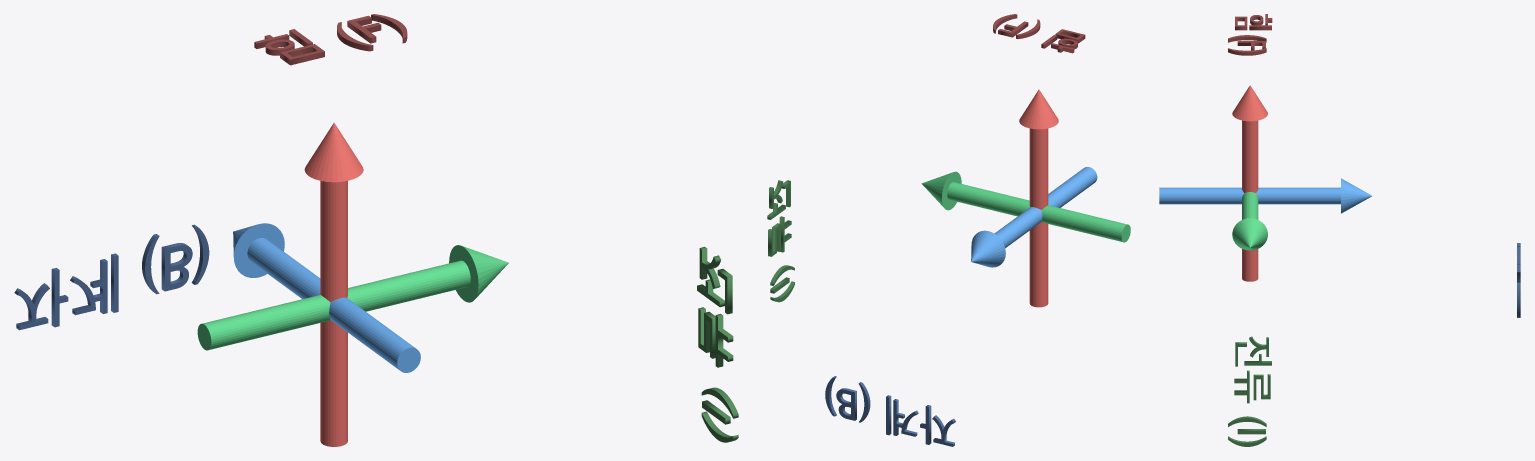
Rendered from flemings_left_hand.glb.
3 renders of one model, left to right at view 1: azimuth 30°, elevation 25°; view 2: azimuth 150°, elevation 25°; view 3: azimuth 270°, elevation 25°, orthographic. The views are drawn at different scales.
Parts seen in each view (by area): view 1: Arrow_F, Arrow_I, Arrow_B, Label_B, Label_I, Label_F; view 2: Arrow_F, Arrow_I, Arrow_B, Label_B, Label_I, Label_F; view 3: Arrow_B, Arrow_F, Label_I, Arrow_I, Label_F.
Boxes of the visible parts, x1,y1,x2,y2 form: Arrow_F: (304,122,363,446); Arrow_I: (197,245,508,350); Arrow_B: (233,223,420,372); Label_B: (14,224,209,330); Label_I: (697,247,738,442); Label_F: (254,14,407,65); Arrow_F: (1019,89,1058,307); Arrow_I: (921,171,1130,242); Arrow_B: (971,167,1097,267); Label_B: (825,376,955,446); Label_I: (767,180,794,302); Label_F: (993,14,1085,53); Arrow_B: (1159,178,1371,213); Arrow_F: (1232,85,1267,281); Label_I: (1228,336,1271,446); Arrow_I: (1232,192,1267,250); Label_F: (1228,14,1272,55).
Size of the model in its own units: 4.78 by 4.37 by 4.78.
